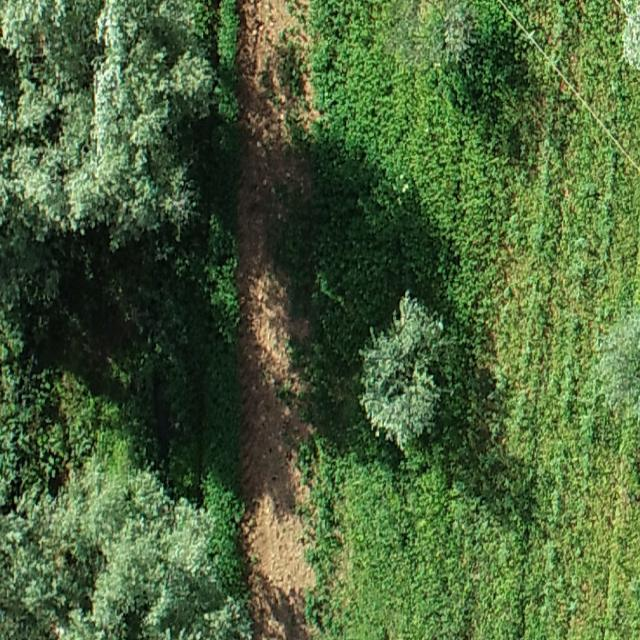olivier: (0, 0, 214, 247), (0, 458, 250, 640), (360, 291, 444, 449), (600, 309, 639, 407)
